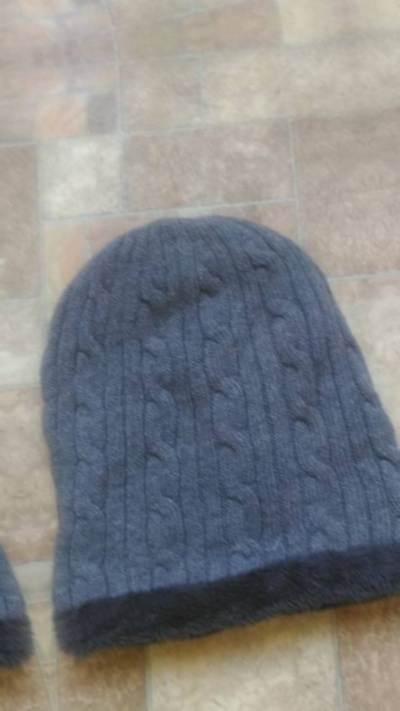Hat: (0, 126, 400, 684), (366, 67, 400, 625), (0, 190, 34, 711)
